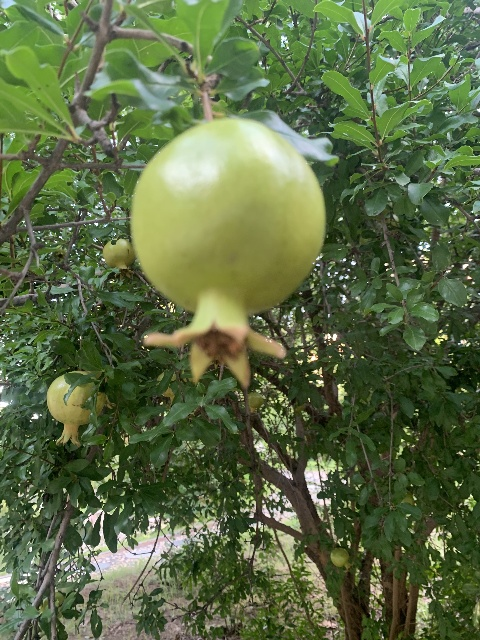mid-growth: (130, 118, 326, 396), (46, 370, 106, 447), (102, 237, 136, 280), (330, 547, 351, 570), (247, 392, 264, 413), (53, 244, 66, 259)
